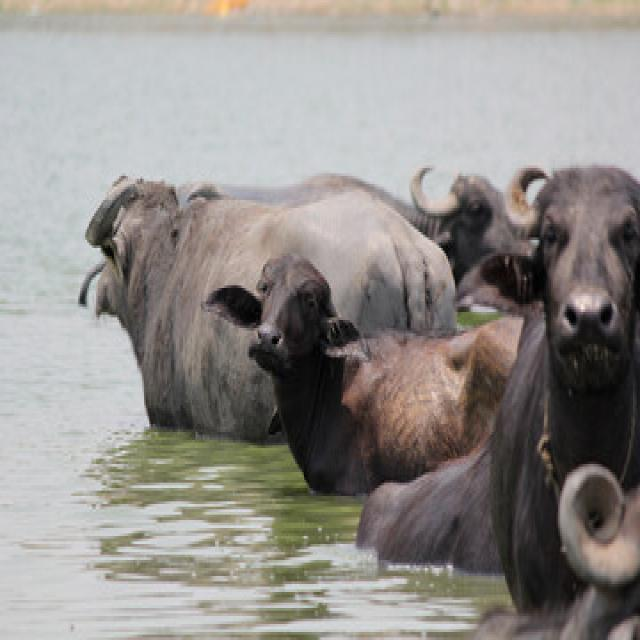Buffalo: (360, 161, 640, 604), (218, 254, 523, 497), (525, 167, 640, 390), (201, 254, 363, 374), (403, 166, 541, 289), (77, 174, 178, 324), (187, 172, 415, 210)
